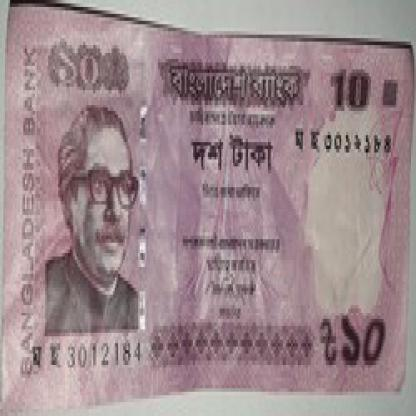Ten Taka: (332, 298, 394, 375), (329, 59, 373, 132), (48, 42, 103, 86)
